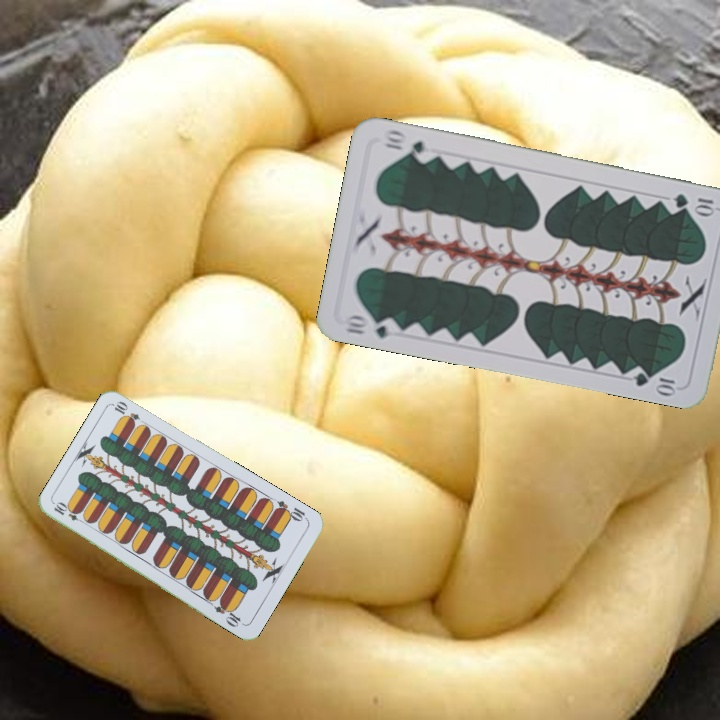E10: (271, 496, 310, 524), (50, 499, 88, 526)
G10: (340, 310, 401, 341), (669, 189, 717, 216)
